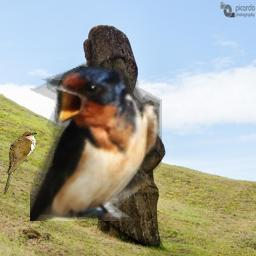Cuckoo: (3, 131, 37, 195)
Swallow: (30, 61, 162, 221)
